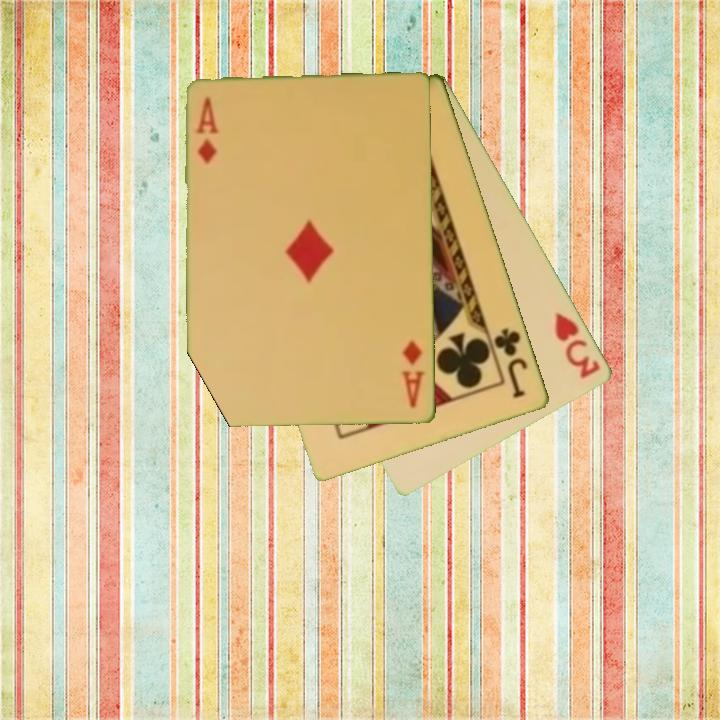3h: (551, 308, 604, 382)
Ad: (399, 337, 429, 411), (192, 93, 221, 167)
Jc: (491, 324, 531, 402)
